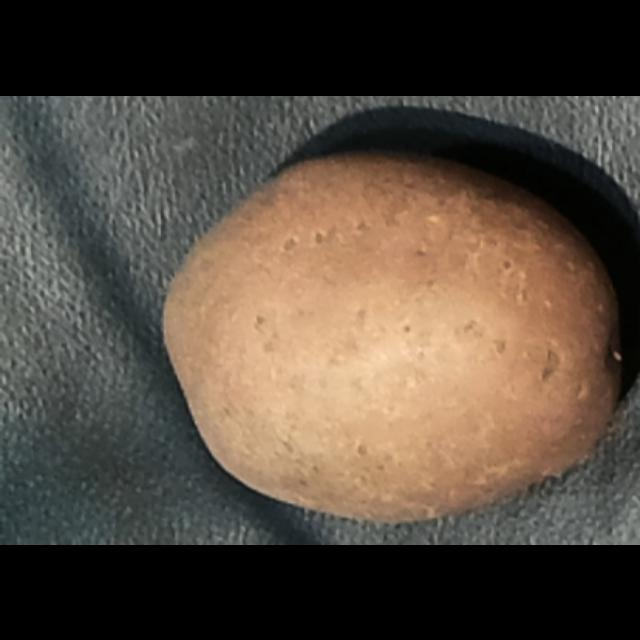Diseased-fungal potato: (156, 130, 640, 540)
